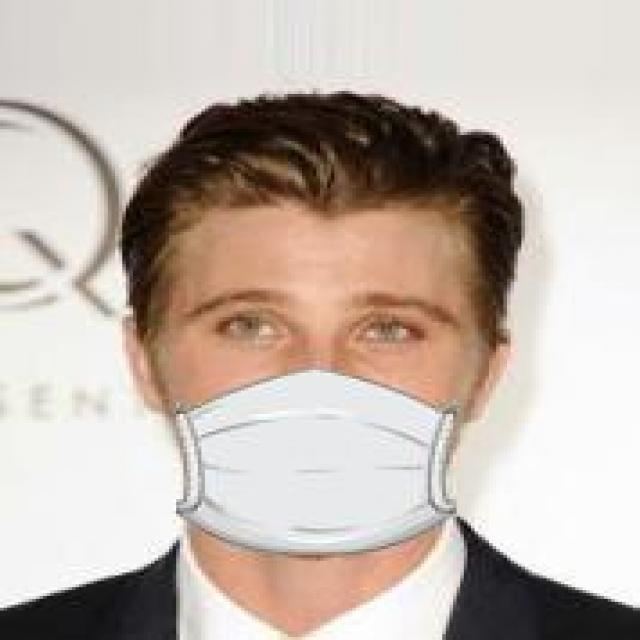mask: (83, 70, 532, 566)
